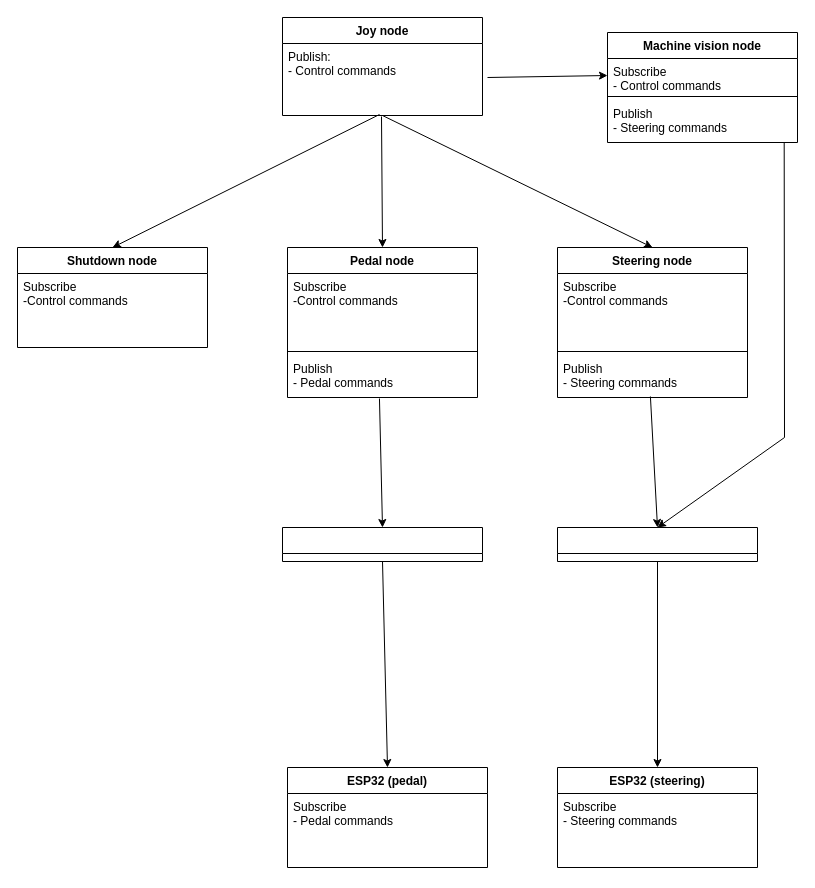
Image size: 815x888. Some labels were removed from this diagram. The centre of each missing label's shape, as x and y in pixels:
"Micro ROS agent node (pedal)" goes at [382,544].
"Micro ROS agent node (steering)" goes at [657,544].
